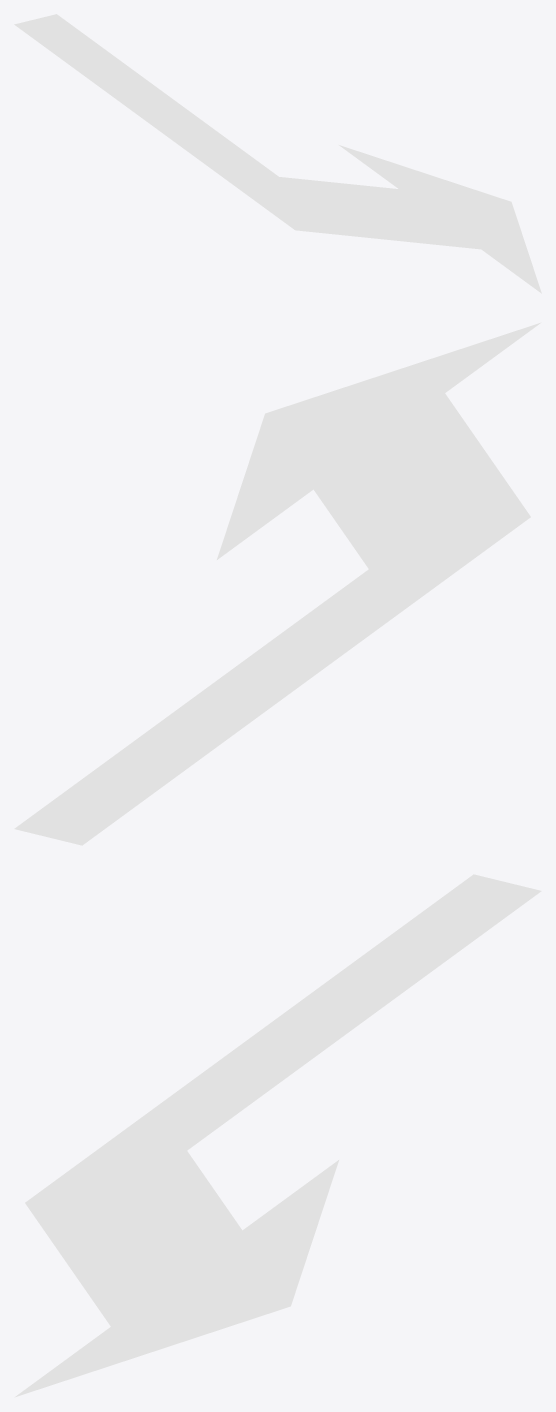
The model's file is ETC0510016.fbx.
3 renders of one model, top to bottom at view 1: azimuth 30°, elevation 25°; view 2: azimuth 150°, elevation 25°; view 3: azimuth 330°, elevation 25°, orthographic. The views are drawn at different scales.
Visible parts, largest first — view 1: smETC0510016; view 2: smETC0510016; view 3: smETC0510016.
Part boxes in pixels (x1,y1,x2,y2): smETC0510016: (14,14,541,293); smETC0510016: (14,322,541,845); smETC0510016: (14,874,541,1397).
Bounding box in the file's own units: 186 × 0 × 685.
1 material, 1 textured.
